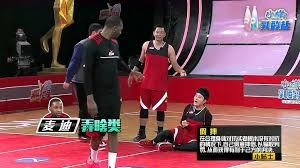falling: (137, 82, 219, 152)
